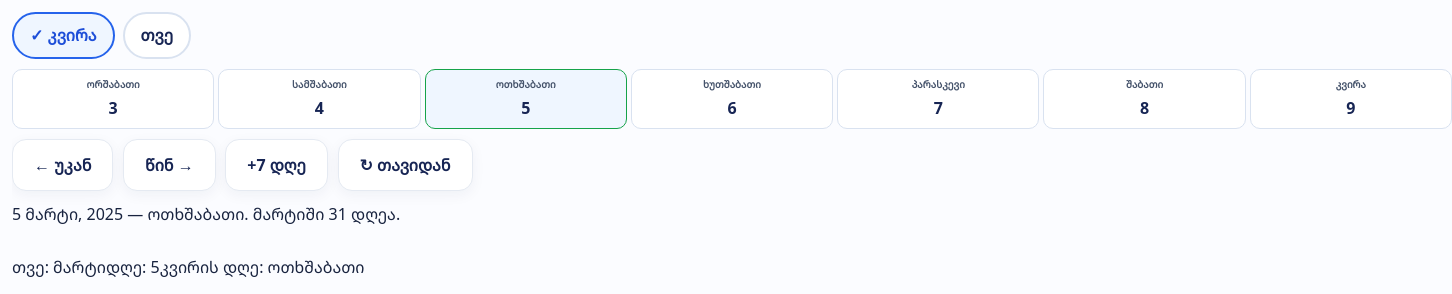
Test case: tools: the calendar walker › walks one day at a time and reads the weekday back
Click the button with aria-label "ერთი დღით წინ" at (169, 165), box [123,139,216,191]
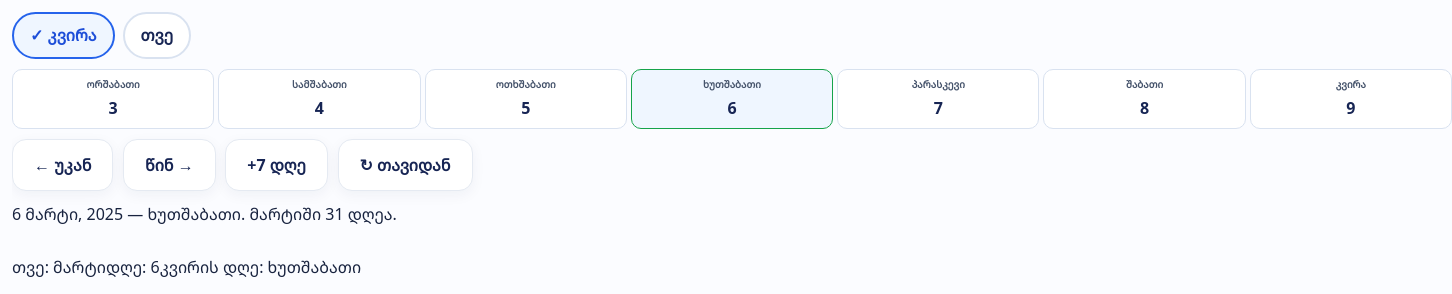
Expected: the message with class "lab-status" shows "6 მარტი, 2025 — ხუთშაბათი", [12,203,241,225]
Click the button with aria-label "ერთი კვირით წინ" at (277, 165), box [225,139,328,191]
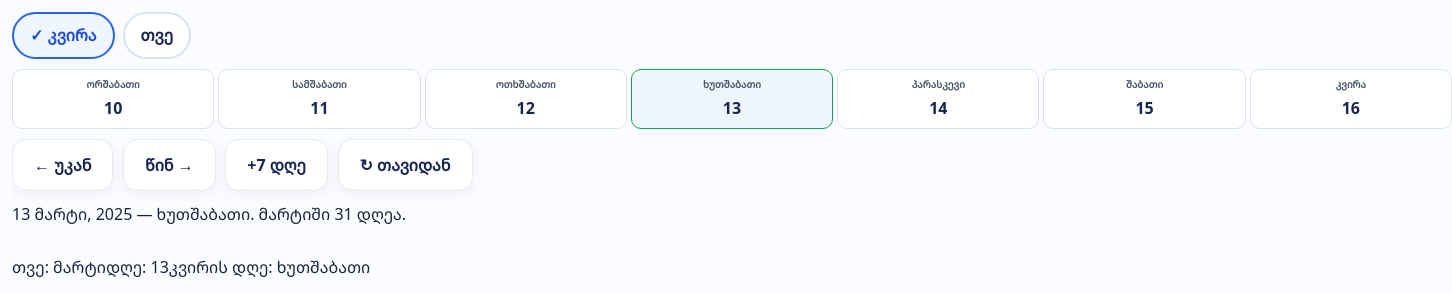
Expected: the message with class "lab-status" shows "13 მარტი, 2025 — ხუთშაბათი", [12,203,250,225]
